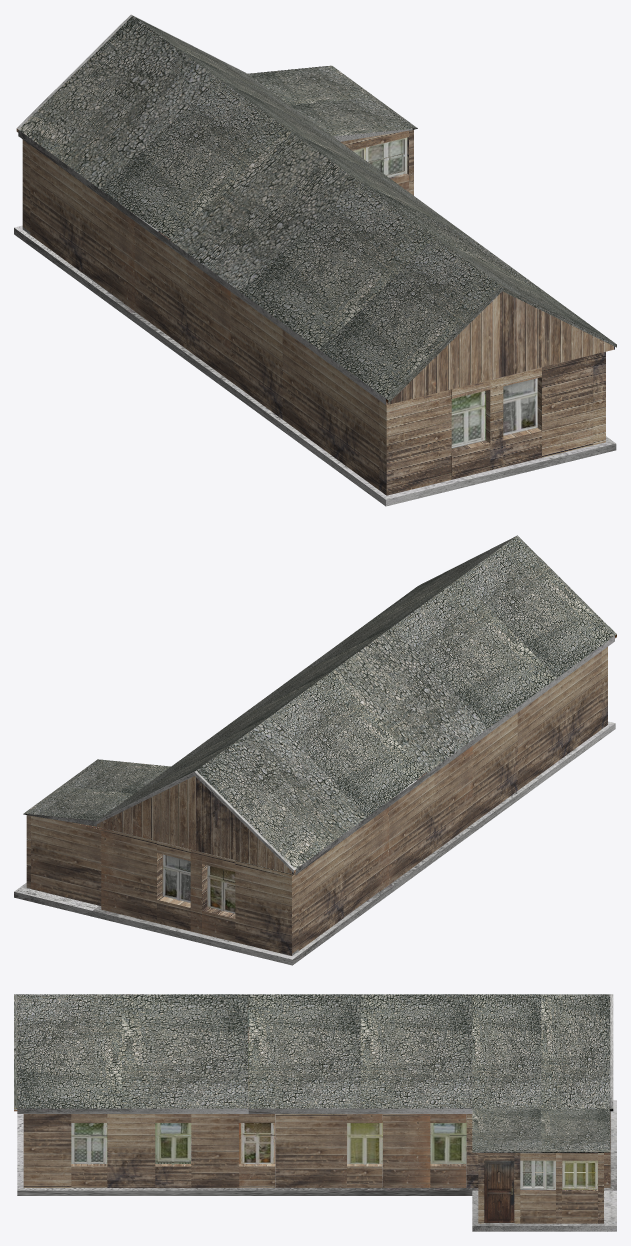
The model's file is old_village_house.glb.
3 views of the same model, one above another, from view 1: azimuth 30°, elevation 25°; view 2: azimuth 150°, elevation 25°; view 3: azimuth 270°, elevation 25° (orthographic). The views are drawn at different scales.
Visible parts, largest first — view 1: Cube; view 2: Cube; view 3: Cube.
Part boxes in pixels (x1,y1,x2,y2): Cube: (14,14,616,506); Cube: (14,535,616,965); Cube: (14,994,616,1231).
Size of the model in its own units: 2494 by 1439 by 5038.
1 material, 1 textured.
